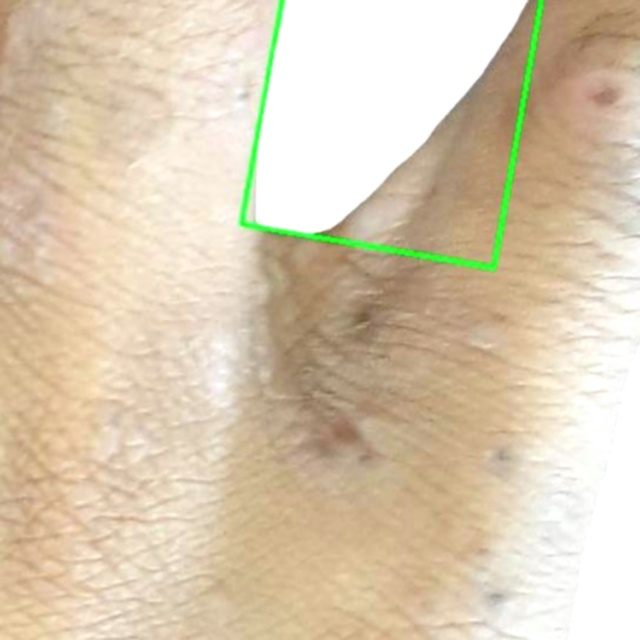Scabies: (241, 0, 541, 267)
